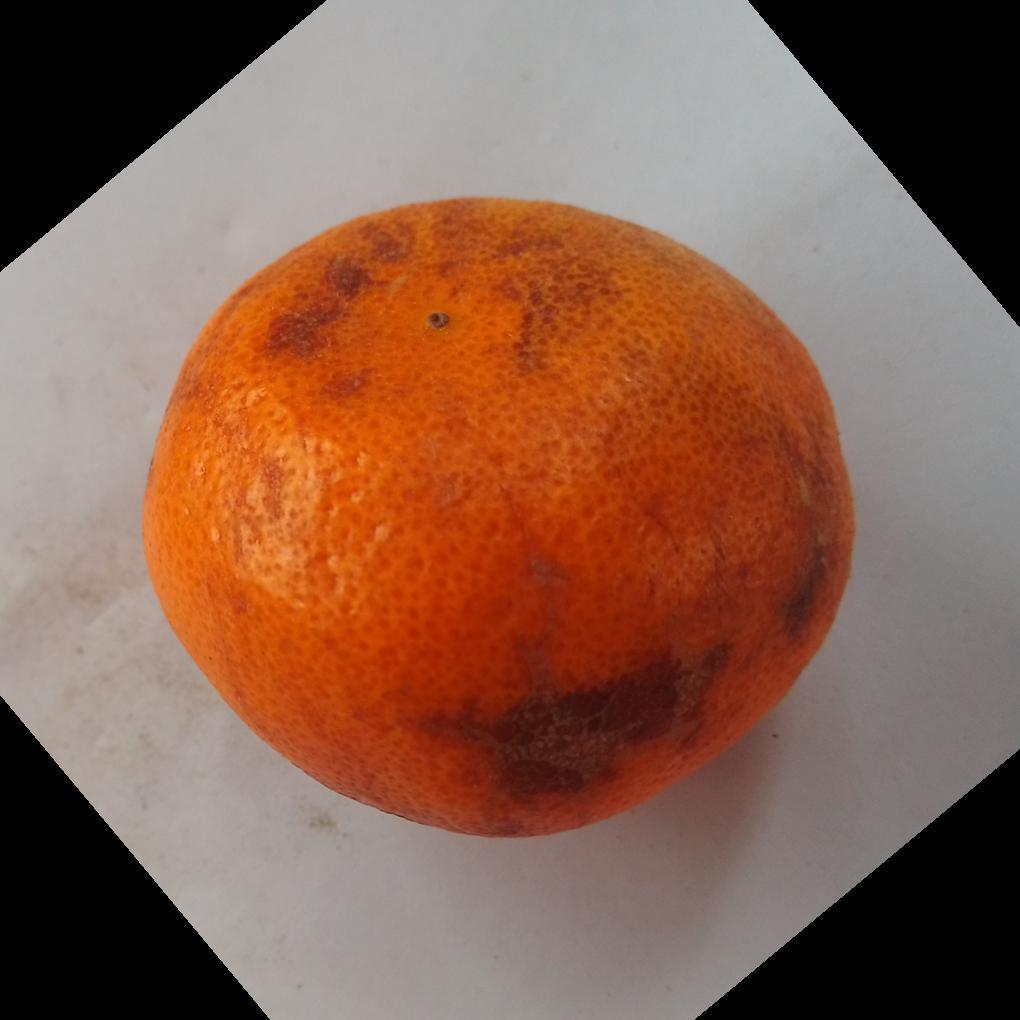FreshOrange: (140, 198, 858, 843)
